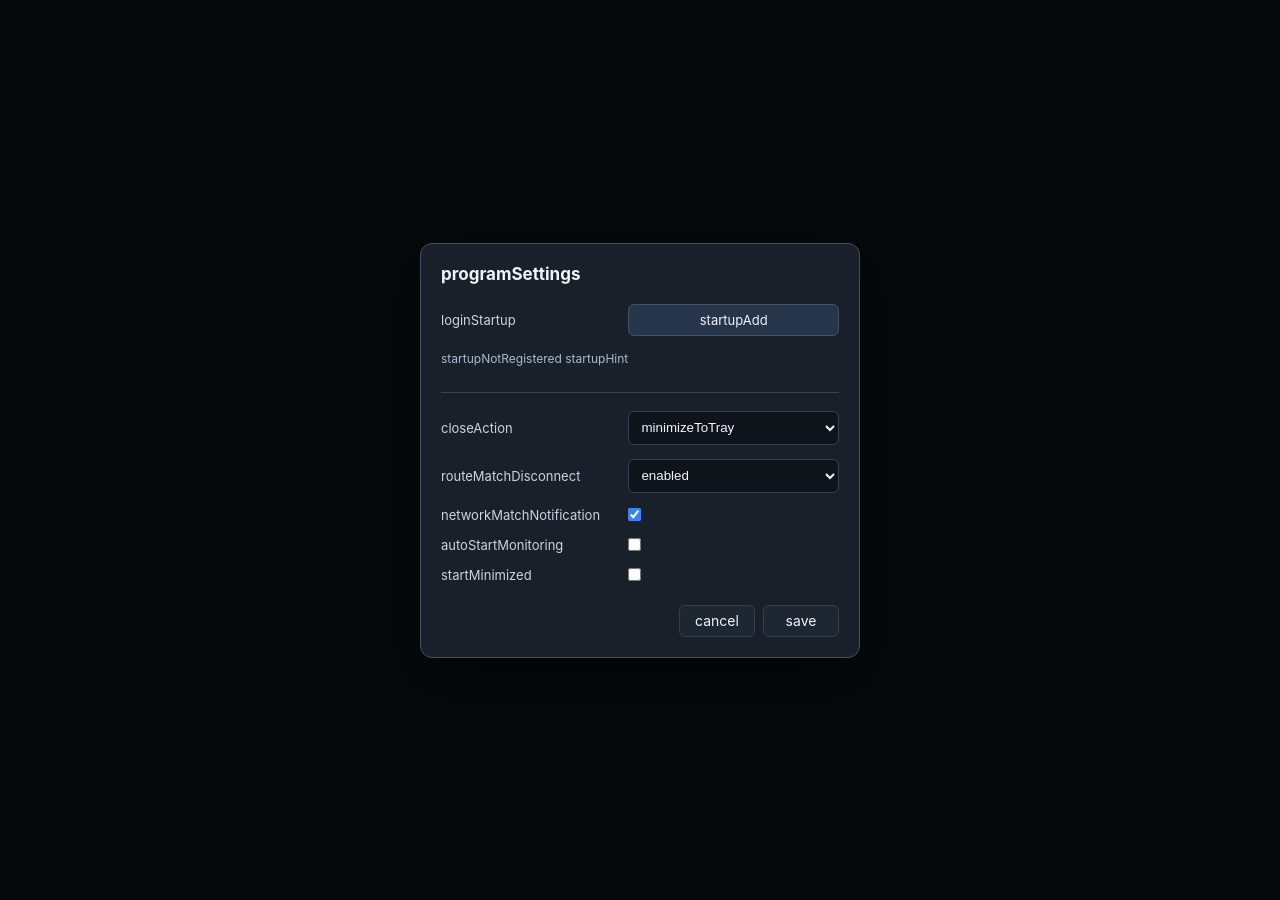
SettingsDialog › prevents duplicate registration requests while an operation is pending
The width and height of the screenshot is (1280, 900).
Click the button with class "startupBtn". click: (734, 320)
box: left=628, top=304, right=839, bottom=336
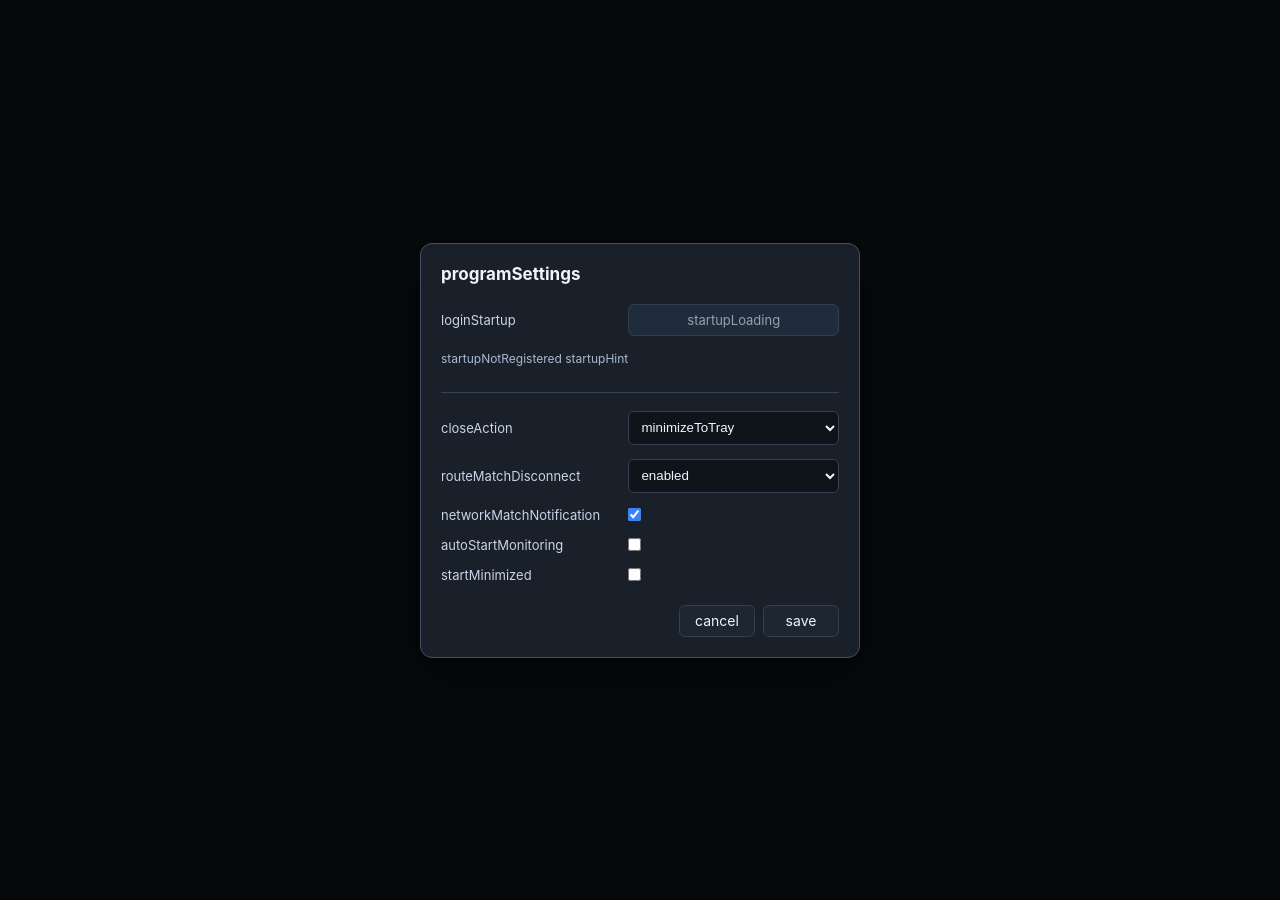
Result: the button with class "startupBtn" is disabled
Click the button with class "startupBtn". click: (734, 320)
box: left=628, top=304, right=839, bottom=336
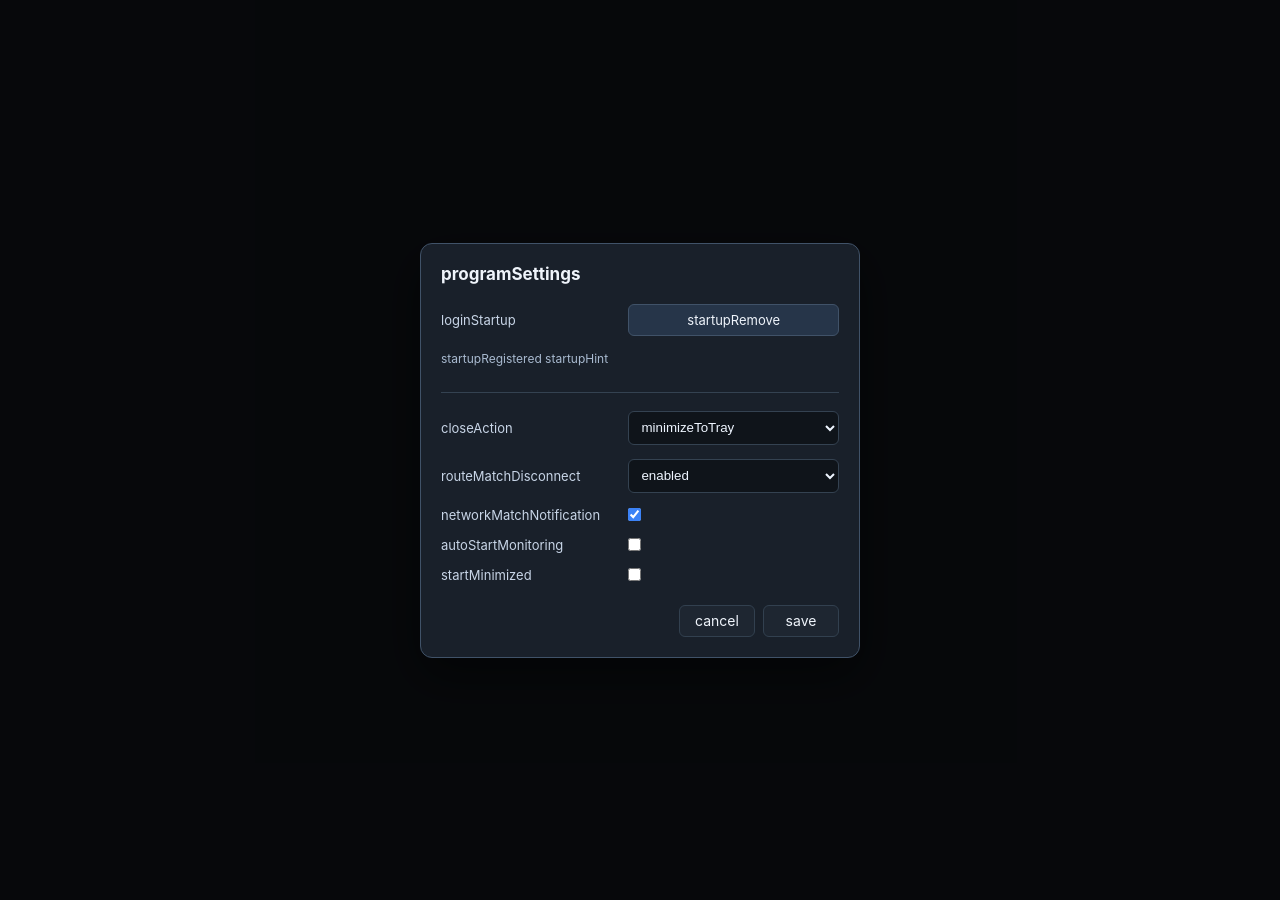
Result: the button with class "startupBtn" reads "startupRemove" at left=628, top=304, right=839, bottom=336
